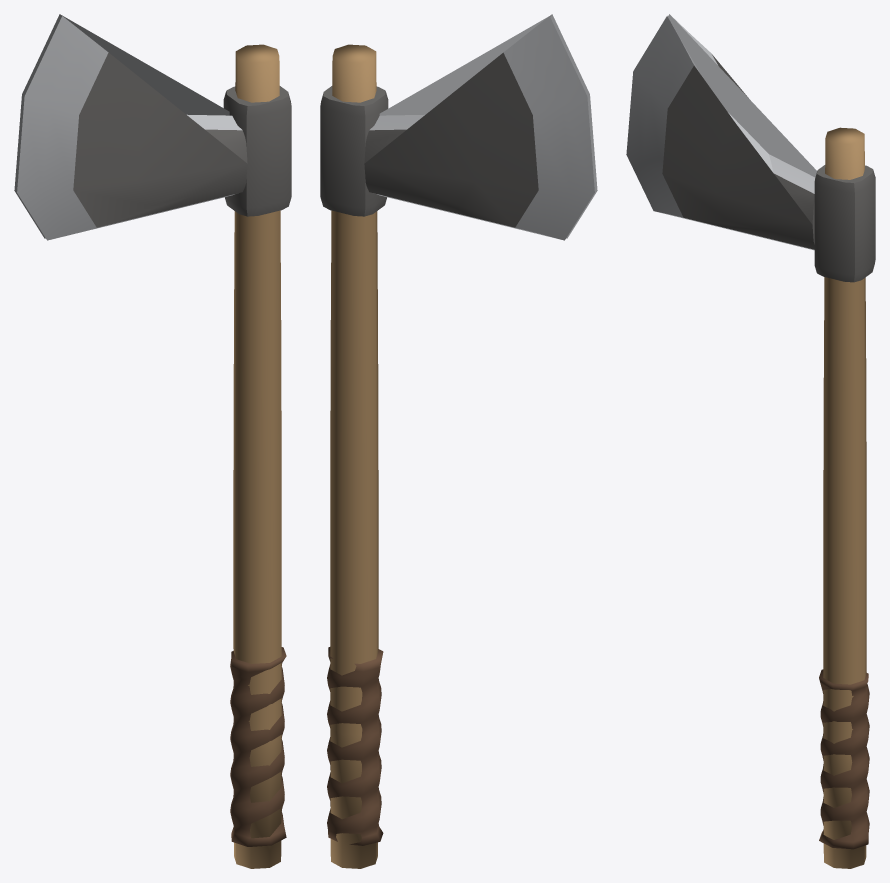
Rendered from throwing-axe.glb.
The picture shows the model from 3 angles, left to right: view 1: azimuth 30°, elevation 25°; view 2: azimuth 150°, elevation 25°; view 3: azimuth 330°, elevation 25°; orthographic projection. The views are drawn at different scales.
Visible parts, largest first — view 1: throwing-axe; view 2: throwing-axe; view 3: throwing-axe.
Boxes of the visible parts, x1,y1,x2,y2 form: throwing-axe: [14, 14, 291, 868]; throwing-axe: [320, 14, 597, 868]; throwing-axe: [626, 14, 875, 868].
Size of the model in its own units: 0.3559 by 1.13 by 0.0633.
